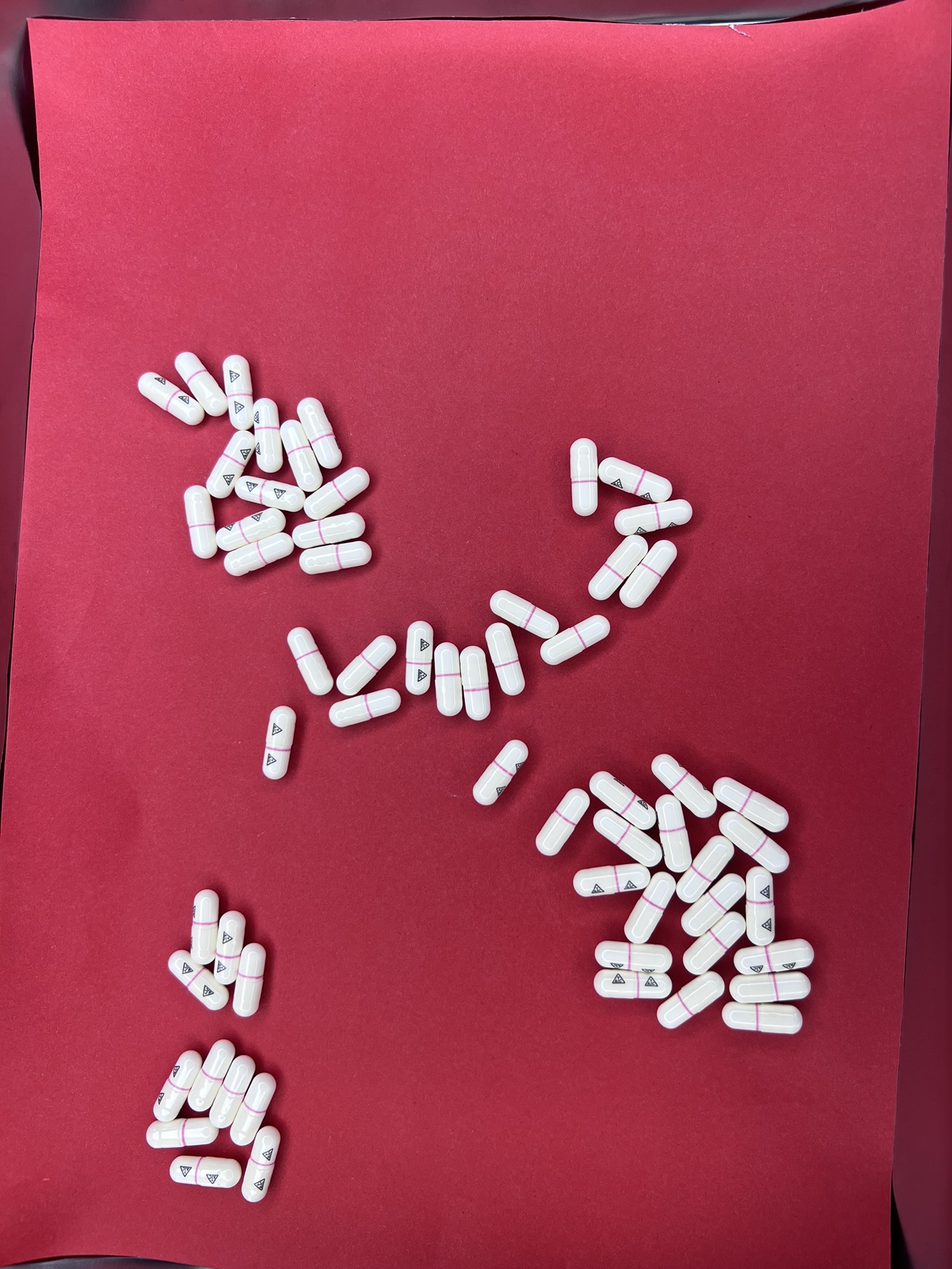Capsule: (718, 810, 792, 874), (711, 774, 790, 832), (680, 911, 746, 978), (680, 872, 745, 940), (656, 969, 725, 1031), (588, 533, 649, 602), (653, 755, 718, 819), (619, 538, 677, 608), (625, 870, 679, 945), (489, 589, 564, 642), (167, 949, 230, 1011), (335, 634, 396, 698), (678, 833, 734, 902), (590, 772, 656, 830), (541, 613, 611, 667), (593, 809, 658, 867), (303, 467, 371, 522), (173, 350, 228, 418), (138, 372, 204, 428), (154, 1047, 204, 1120), (598, 456, 672, 504), (536, 787, 588, 855), (472, 739, 526, 804), (210, 1054, 255, 1131), (287, 626, 334, 698), (206, 430, 255, 499), (189, 1040, 235, 1113), (297, 397, 342, 471), (233, 1072, 276, 1145), (279, 420, 322, 492), (216, 508, 286, 552), (242, 1126, 281, 1204), (733, 939, 814, 976), (485, 624, 526, 697), (224, 536, 296, 577), (728, 970, 813, 1004), (616, 498, 692, 536), (655, 796, 692, 873), (291, 513, 367, 550), (330, 689, 401, 728), (237, 475, 306, 515), (722, 1002, 804, 1035), (594, 941, 672, 975), (573, 864, 648, 899), (170, 1154, 242, 1190), (233, 942, 267, 1018), (298, 540, 371, 575), (595, 968, 672, 1001), (262, 707, 296, 781), (251, 398, 283, 475), (184, 486, 217, 560), (745, 867, 776, 944), (223, 354, 254, 429), (147, 1116, 219, 1148), (460, 645, 491, 719), (214, 912, 245, 984), (405, 621, 435, 694), (190, 889, 220, 962), (570, 438, 598, 515), (434, 644, 463, 717)
